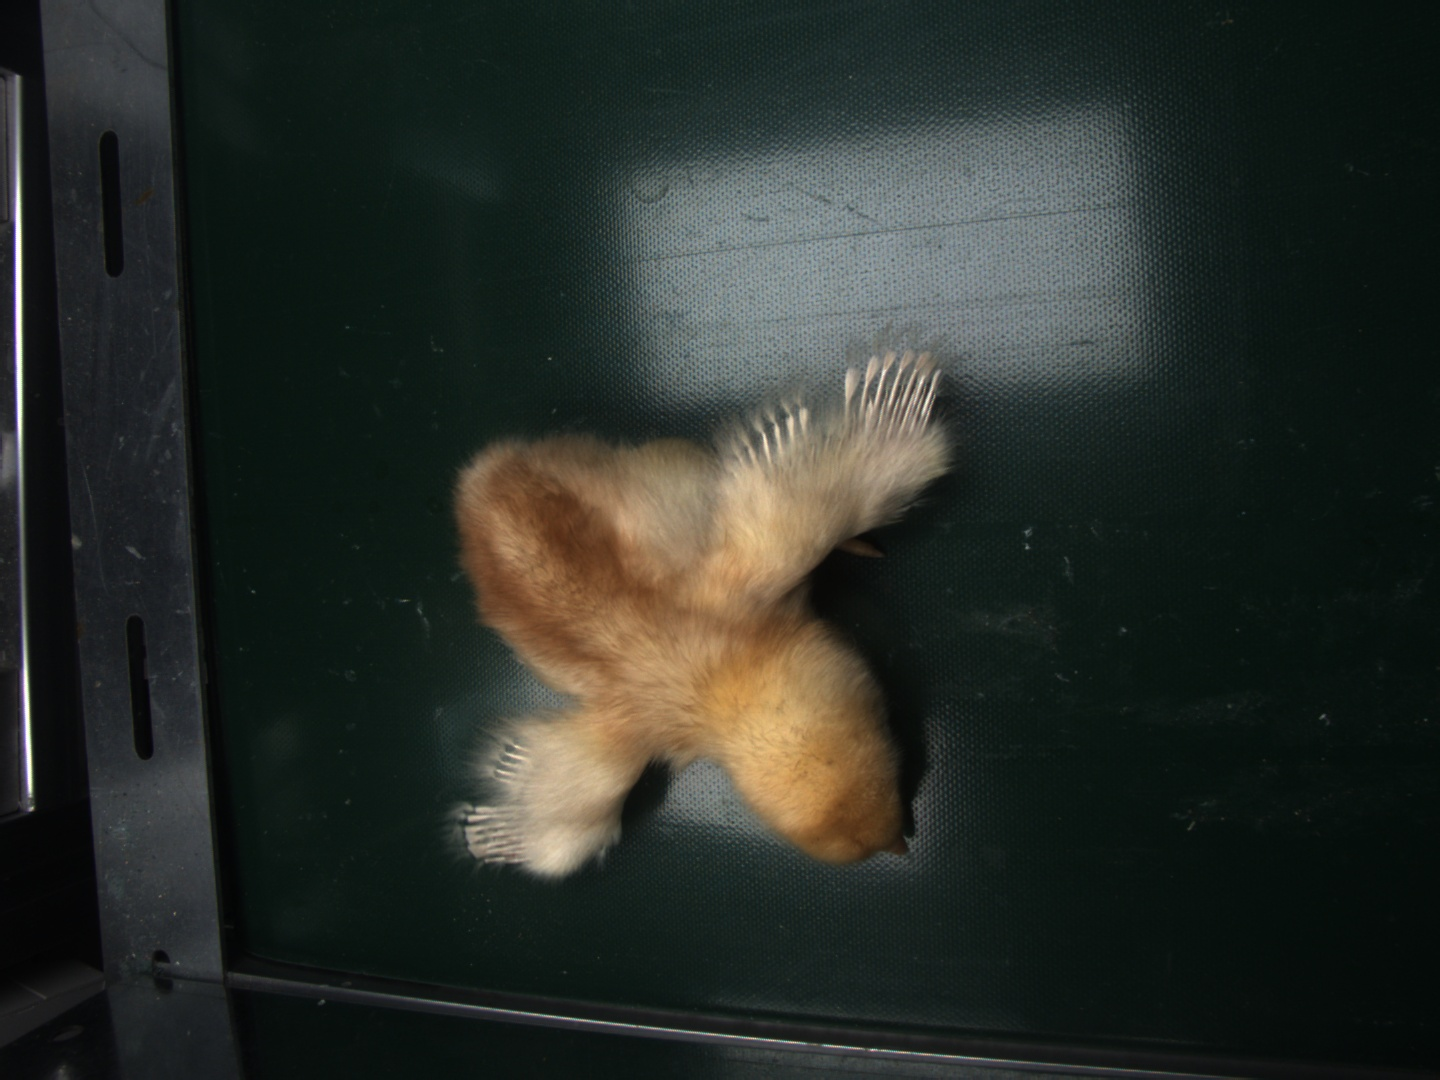female: (844, 351, 938, 430)
